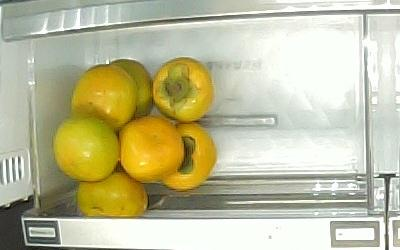persimmon: (70, 65, 136, 133), (119, 116, 185, 184), (53, 116, 120, 181), (151, 57, 215, 124), (161, 122, 218, 192), (75, 172, 148, 218), (108, 59, 153, 120)
